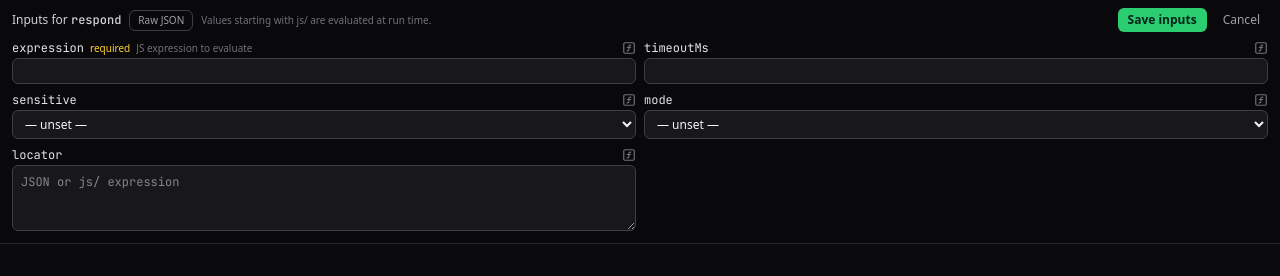
it: StepInputsEditor › keeps js/ expressions as strings on number fields and rejects garbage
This screenshot has width=1280, height=276.
Type "js/ctx.request.body.timeout" into the field labelled "timeoutMs". click: (956, 71)
box: top-left (644, 58), bottom-right (1268, 84)
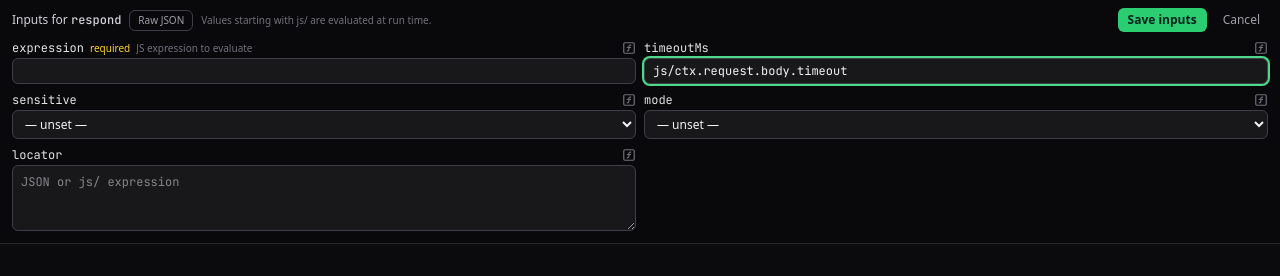
Click the button "Save inputs". click: (1162, 20)
box: top-left (1118, 8), bottom-right (1207, 32)
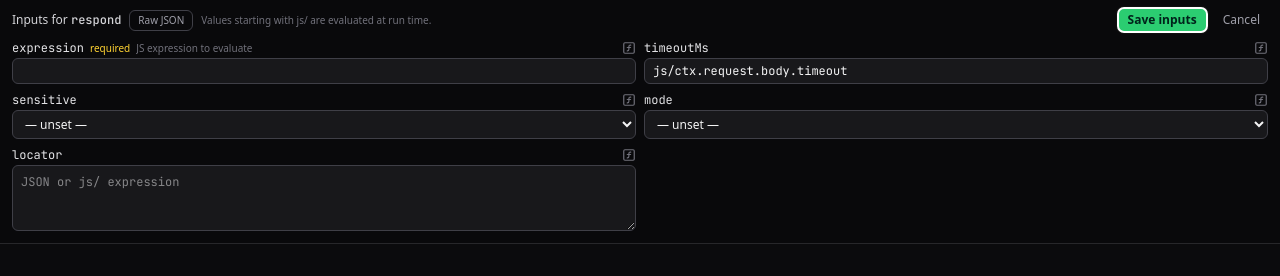
Replace the text in the field labelled "timeoutMs" with "not-a-number". click: (956, 71)
box: top-left (644, 58), bottom-right (1268, 84)
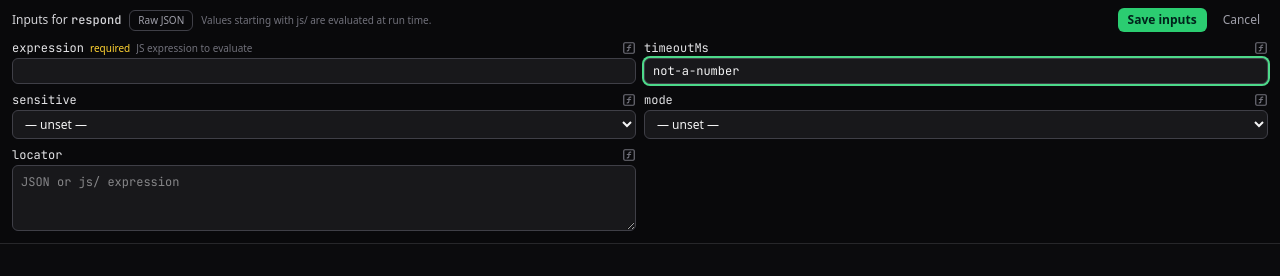
Click the button "Save inputs". click: (1162, 20)
box: top-left (1118, 8), bottom-right (1207, 32)
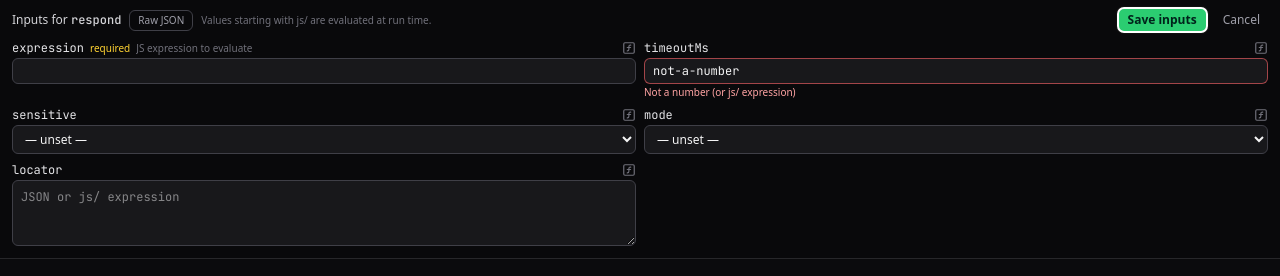
Result: the text "Not a number (or js/ expression)" is shown at top-left (644, 85), bottom-right (796, 99)
